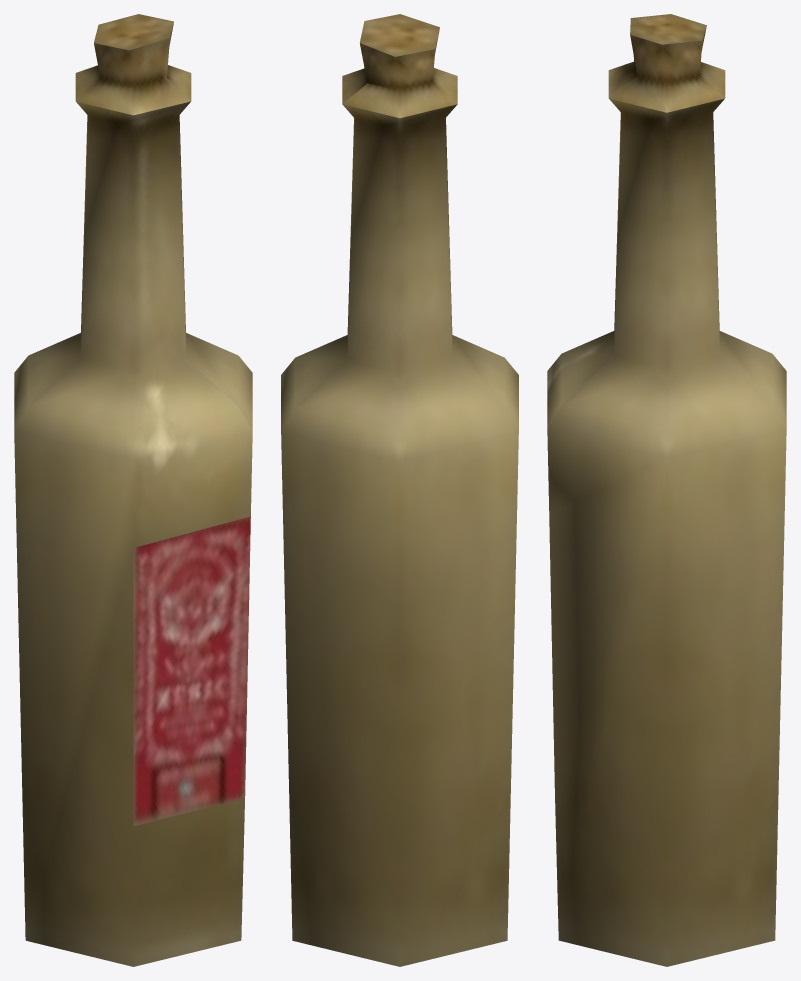
The model's file is bottle_tan.fbx.
The picture shows the model from 3 angles, left to right: view 1: azimuth 30°, elevation 25°; view 2: azimuth 150°, elevation 25°; view 3: azimuth 270°, elevation 25°; orthographic projection.
Visible parts, largest first — view 1: lod_high; view 2: lod_high; view 3: lod_high.
Boxes of the visible parts, x1,y1,x2,y2 form: lod_high: (14, 14, 252, 966); lod_high: (281, 14, 518, 966); lod_high: (547, 14, 786, 966).
Size of the model in its own units: 29.04 by 103 by 25.15.
1 material, 1 textured.
